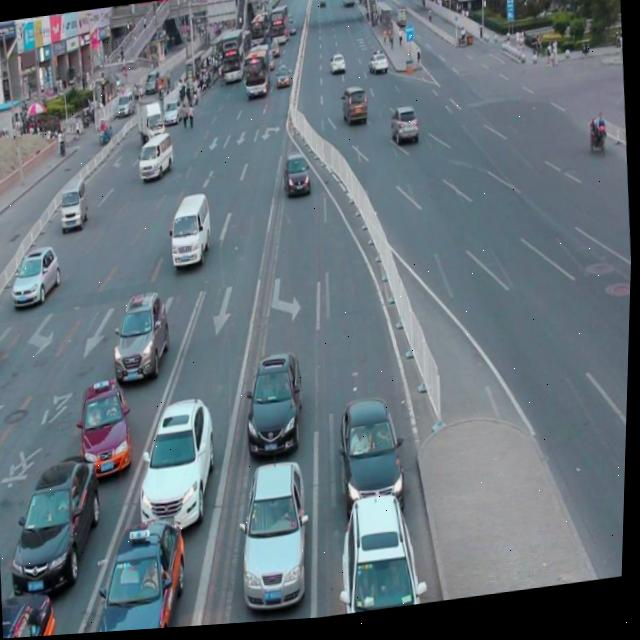car: (7, 447, 110, 598), (235, 452, 318, 614), (89, 509, 194, 635), (134, 391, 224, 535), (338, 487, 429, 620), (337, 389, 409, 515), (242, 346, 310, 460), (109, 284, 175, 386), (77, 372, 138, 481), (11, 242, 64, 310), (3, 585, 62, 639), (282, 152, 312, 202), (389, 109, 418, 151)
truck: (168, 195, 214, 272), (137, 133, 176, 184), (58, 175, 90, 234)
